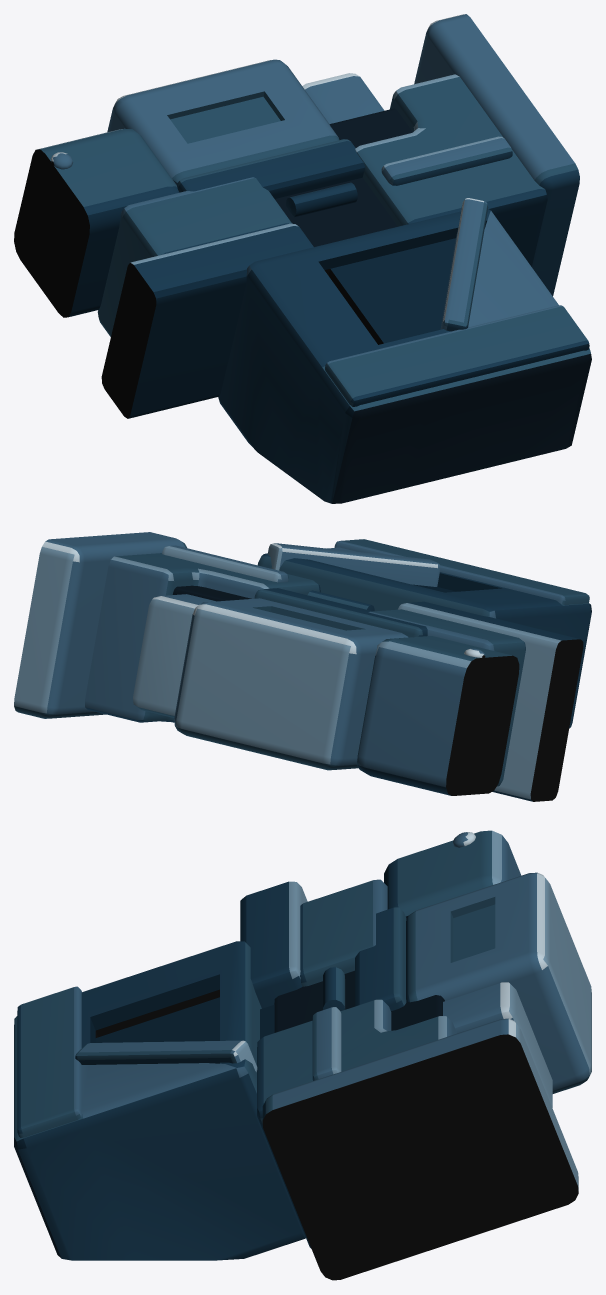
The model's file is deli_cannon_l_mount.glb.
3 views of the same model, one above another, from view 1: azimuth 30°, elevation 25°; view 2: azimuth 150°, elevation 25°; view 3: azimuth 270°, elevation 25° (orthographic). The views are drawn at different scales.
Visible parts, largest first — view 1: trunnion.001, ledge.001, hull.001, sight.001, lower_box.001, rear_block.001, base_strip.001, lower_block.001, core.001, sight_base.001, strut.001, rail.001 (+2 smaller); view 2: sight.001, hull.001, rear_block.001, lower_box.001, ledge.001, trunnion.001, small_box.001, strut.001, base_strip.001, lower_block.001, sight_base.001, rail.001 (+2 smaller); view 3: trunnion.001, rear_block.001, sight.001, base_strip.001, lower_box.001, hull.001, lower_block.001, ledge.001, sight_base.001, strut.001, small_box.001, core.001 (+2 smaller).
Boxes of the visible parts, bbox=[...] form: trunnion.001: bbox=[218, 209, 591, 503]; ledge.001: bbox=[101, 223, 313, 418]; hull.001: bbox=[14, 128, 179, 317]; sight.001: bbox=[107, 59, 339, 182]; lower_box.001: bbox=[355, 74, 547, 266]; rear_block.001: bbox=[414, 14, 579, 296]; base_strip.001: bbox=[325, 305, 589, 406]; lower_block.001: bbox=[97, 177, 291, 336]; core.001: bbox=[173, 108, 412, 246]; sight_base.001: bbox=[177, 139, 365, 198]; strut.001: bbox=[440, 198, 488, 331]; rail.001: bbox=[381, 136, 512, 185]; sight.001: bbox=[174, 598, 408, 770]; hull.001: bbox=[356, 636, 519, 795]; rear_block.001: bbox=[14, 532, 186, 718]; lower_box.001: bbox=[85, 553, 320, 722]; ledge.001: bbox=[398, 601, 583, 801]; trunnion.001: bbox=[257, 547, 591, 728]; small_box.001: bbox=[133, 594, 215, 717]; strut.001: bbox=[268, 543, 440, 586]; base_strip.001: bbox=[334, 539, 589, 604]; lower_block.001: bbox=[368, 609, 525, 786]; sight_base.001: bbox=[254, 588, 427, 637]; rail.001: bbox=[162, 545, 288, 582]; trunnion.001: bbox=[14, 941, 305, 1260]; rear_block.001: bbox=[262, 1018, 578, 1280]; sight.001: bbox=[406, 872, 591, 1093]; base_strip.001: bbox=[17, 986, 81, 1137]; lower_box.001: bbox=[257, 999, 456, 1248]; hull.001: bbox=[384, 830, 521, 916]; lower_block.001: bbox=[300, 879, 387, 986]; ledge.001: bbox=[240, 881, 307, 1008]; sight_base.001: bbox=[355, 907, 406, 1011]; strut.001: bbox=[75, 1040, 257, 1072]; small_box.001: bbox=[443, 982, 552, 1107]; core.001: bbox=[274, 915, 444, 1032].
Size of the model in its own units: 24 by 13.54 by 25.52.
